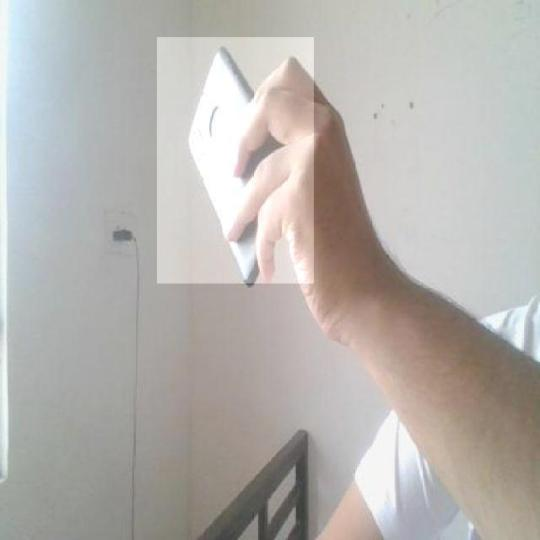phone: (164, 35, 310, 287)
